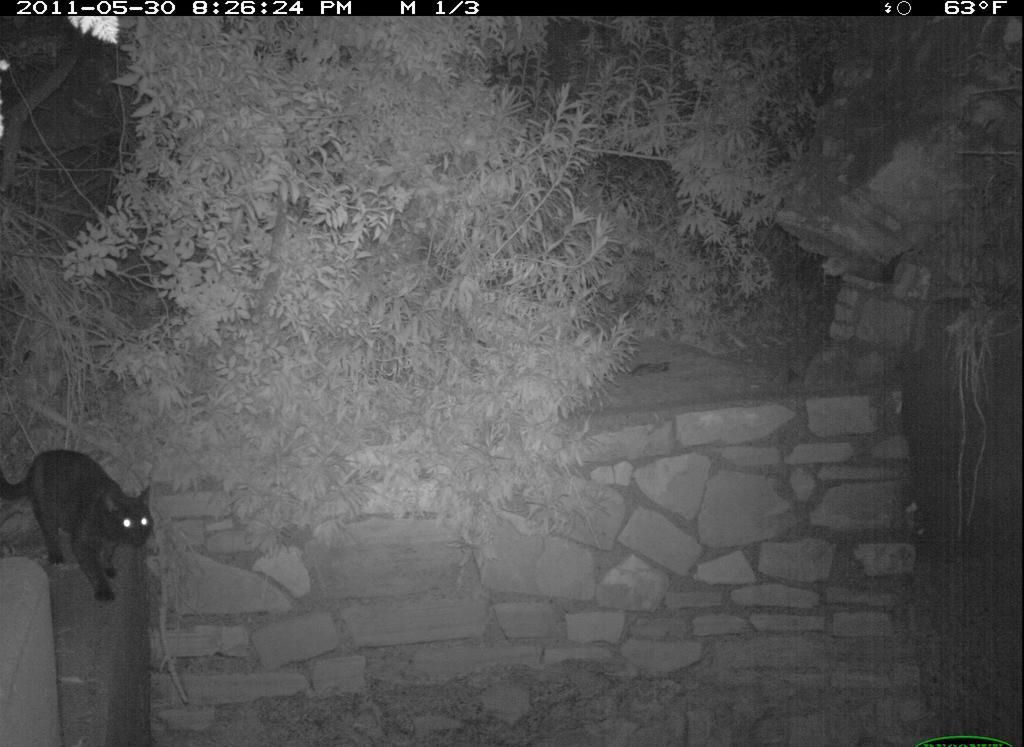cat: (18, 423, 195, 595)
